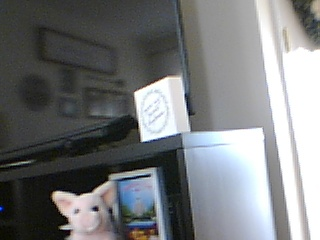piggy: (50, 179, 121, 240)
